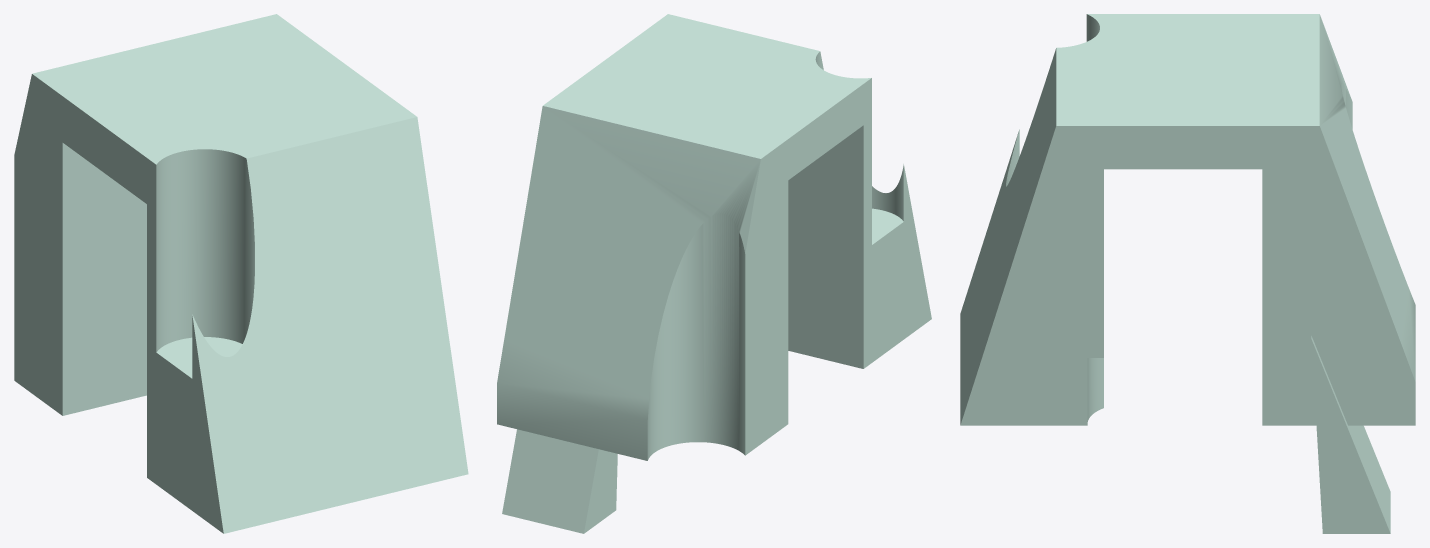
The picture shows the model from 3 angles, left to right: view 1: azimuth 30°, elevation 25°; view 2: azimuth 150°, elevation 25°; view 3: azimuth 270°, elevation 25°; orthographic projection. The views are drawn at different scales.
Visible parts, largest first — view 1: Renderer Node; view 2: Renderer Node; view 3: Renderer Node.
Boxes of the visible parts, x1=… form: Renderer Node: x1=14, y1=14, x2=468, y2=533; Renderer Node: x1=497, y1=14, x2=931, y2=533; Renderer Node: x1=960, y1=14, x2=1415, y2=533.
Bounding box in the file's own units: 0.5156 × 0.8429 × 0.8594.
